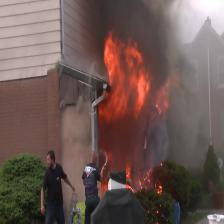fire: (96, 36, 186, 224)
smoke: (92, 0, 224, 80)
